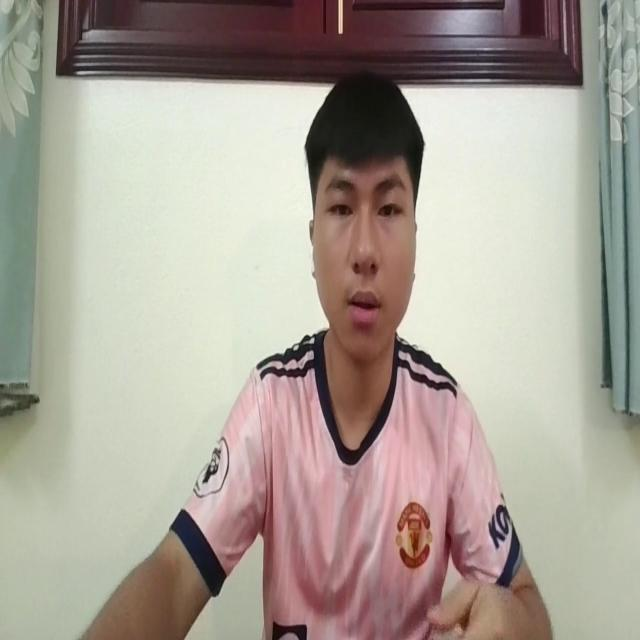student: (65, 70, 552, 640)
